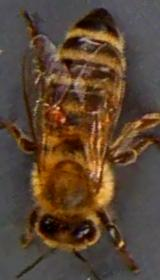varroa_mite: (40, 105, 72, 129)
